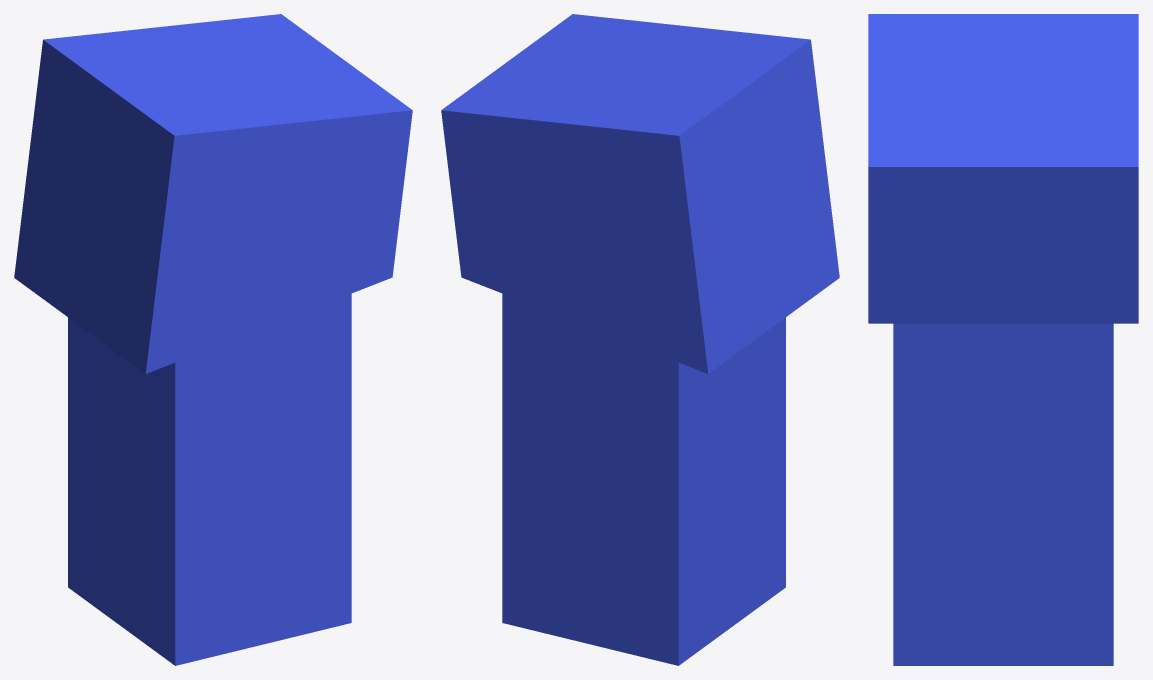
The model's file is float_L_arm.obj.
3 renders of one model, left to right at view 1: azimuth 30°, elevation 25°; view 2: azimuth 150°, elevation 25°; view 3: azimuth 270°, elevation 25°, orthographic. The views are drawn at different scales.
Parts seen in each view (by area): view 1: 立方体.002; view 2: 立方体.002; view 3: 立方体.002.
Boxes of the visible parts, <box> form: 立方体.002: <box>14,14,412,665</box>; 立方体.002: <box>441,14,839,665</box>; 立方体.002: <box>868,14,1138,665</box>.
Size of the model in its own units: 0.7465 by 1.45 by 0.6368.
1 material, 1 textured.
